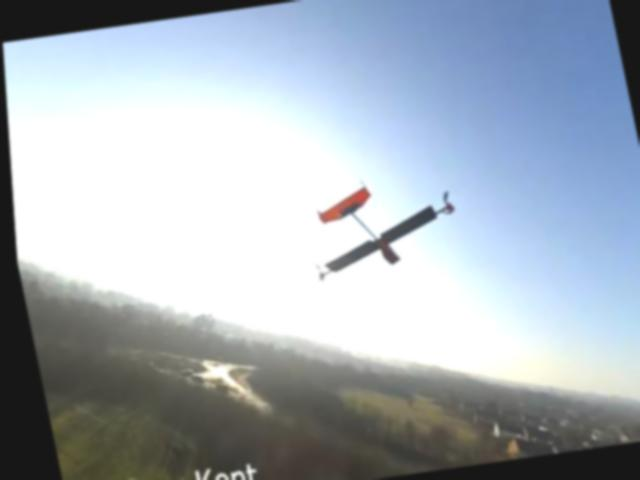uav: (288, 158, 476, 300)
